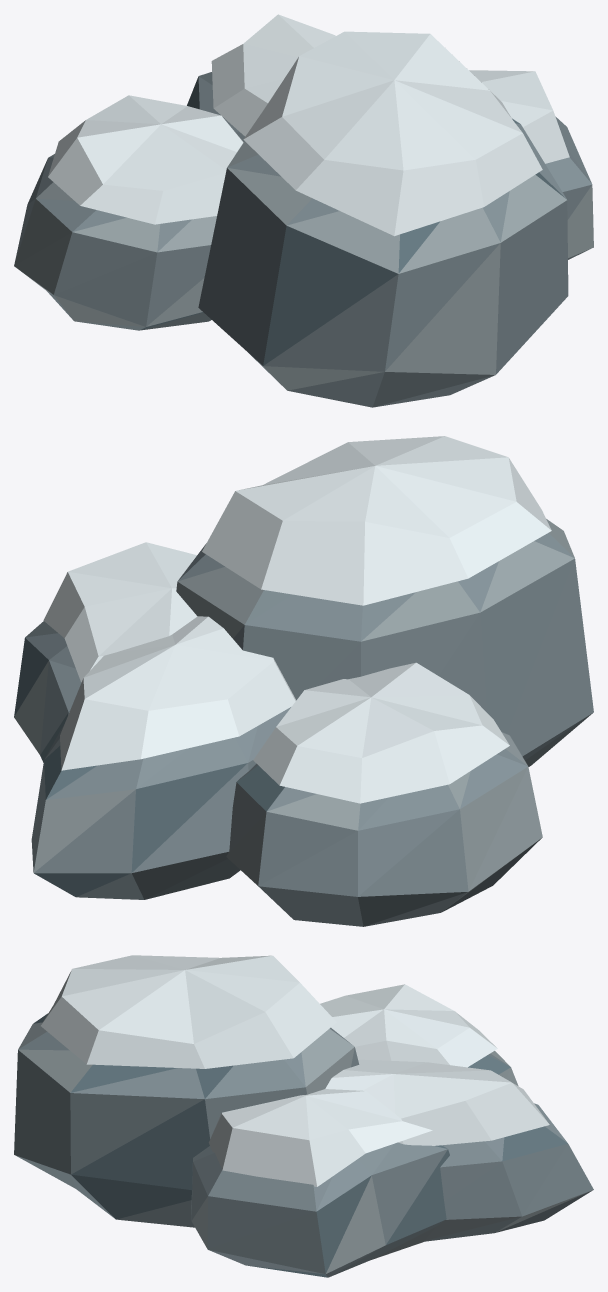
File: ROCK_07_ClusterSmall.glb
3 renders of one model, top to bottom at view 1: azimuth 30°, elevation 25°; view 2: azimuth 150°, elevation 25°; view 3: azimuth 270°, elevation 25°, orthographic. The views are drawn at different scales.
Visible parts, largest first — view 1: ROCK_07_ClusterSmall; view 2: ROCK_07_ClusterSmall; view 3: ROCK_07_ClusterSmall.
Part boxes in pixels (bbox=[...]): ROCK_07_ClusterSmall: bbox=[14, 14, 593, 407]; ROCK_07_ClusterSmall: bbox=[14, 436, 593, 926]; ROCK_07_ClusterSmall: bbox=[14, 955, 593, 1277].
Size of the model in its own units: 1.89 by 0.9497 by 2.24.
